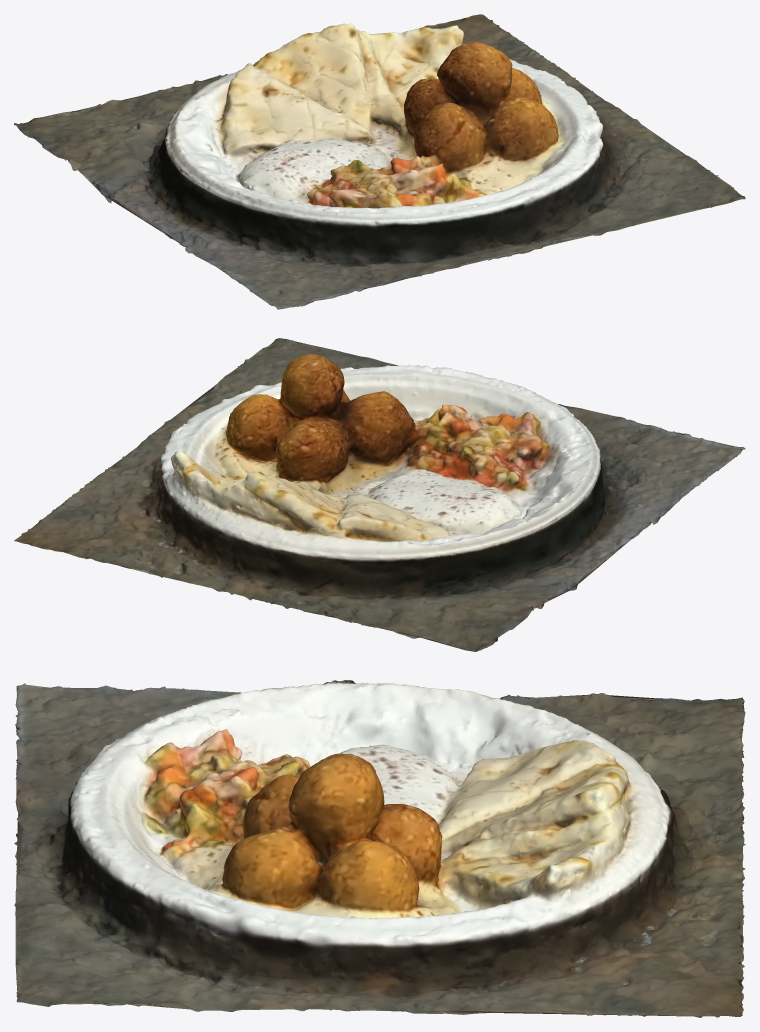
The model's file is Falafel_scaled.glb.
3 views of the same model, one above another, from view 1: azimuth 30°, elevation 25°; view 2: azimuth 150°, elevation 25°; view 3: azimuth 270°, elevation 25° (orthographic). The views are drawn at different scales.
Parts seen in each view (by area): view 1: Mesh_0_Part_0; view 2: Mesh_0_Part_0; view 3: Mesh_0_Part_0.
Boxes of the visible parts, box(x1,y1,x2,y2) form: Mesh_0_Part_0: box(14, 14, 745, 309); Mesh_0_Part_0: box(14, 338, 745, 651); Mesh_0_Part_0: box(14, 680, 745, 1017).
Size of the model in its own units: 0.3445 by 0.0844 by 0.3378.
1 material, 1 textured.
